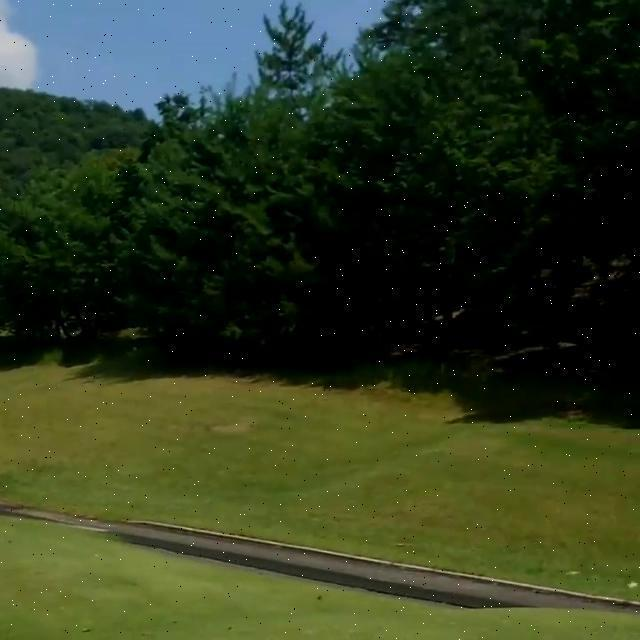GolfBall: (628, 582, 638, 589)
